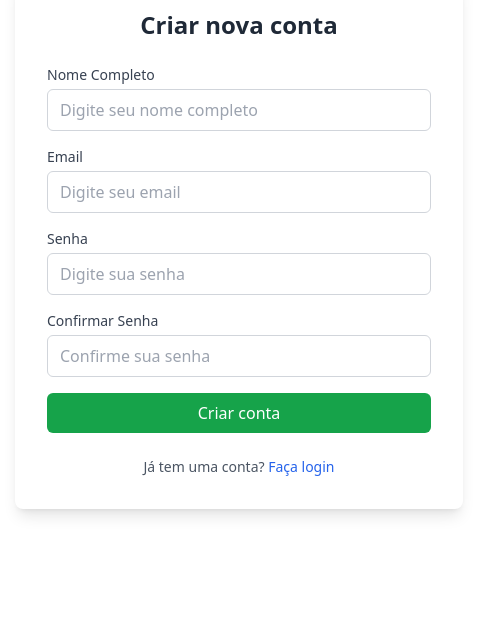
Test case: RegisterForm › should clear field errors when user starts typing
// Trigger validation error
Click the button "Criar conta".
click(239, 413)  # box [47,393,431,433]
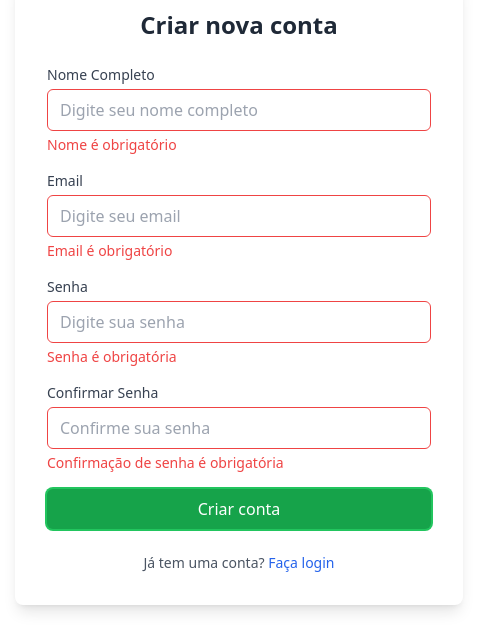
Check: the text "Nome é obrigatório" is shown, box [47,135,177,154]
// Start typing to clear error
Type "J" into the field labelled "Nome Completo".
click(239, 110); type("J")  # box [47,89,431,131]
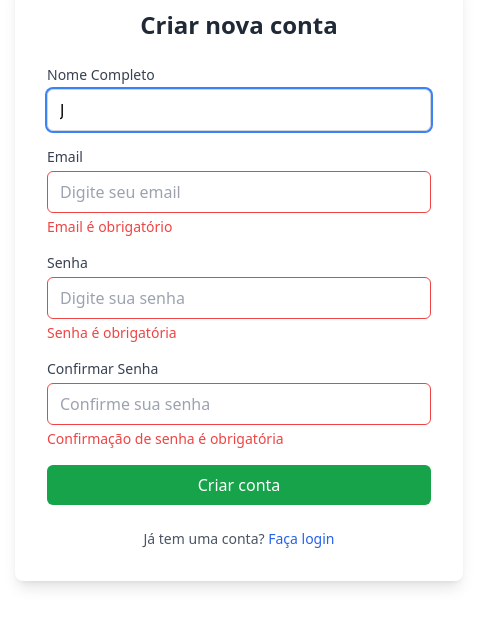
Check: the text "Nome é obrigatório" is gone
